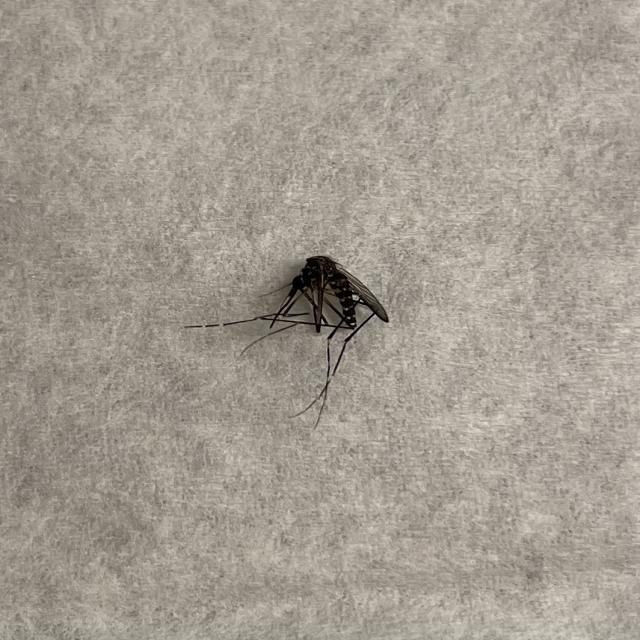albopictus: (184, 250, 398, 428)
